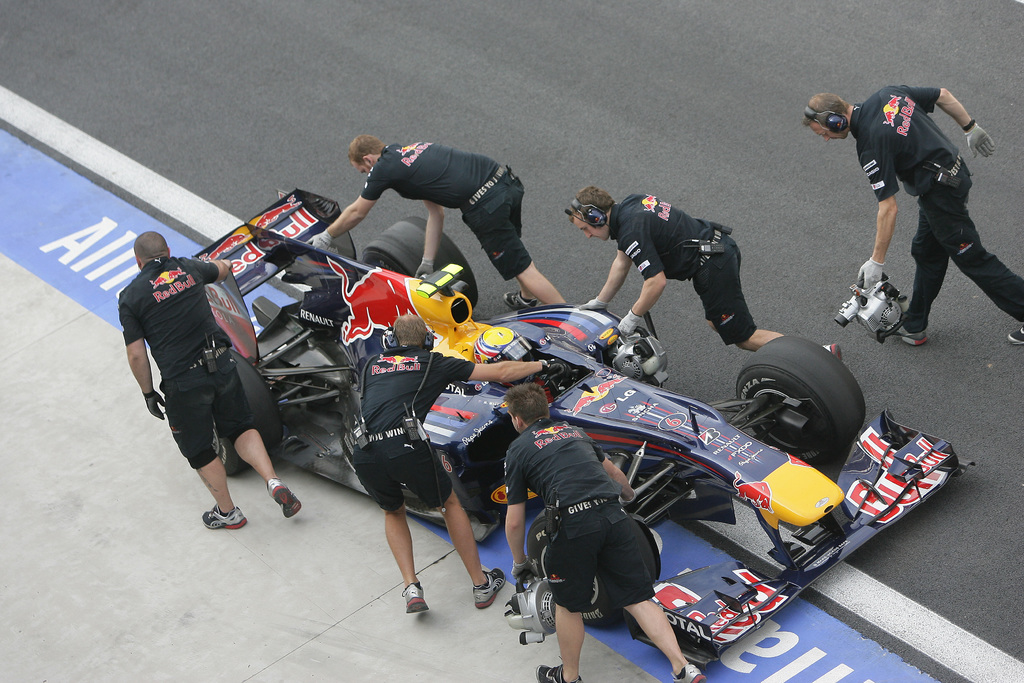Person: (351, 310, 573, 614), (804, 82, 1024, 357), (509, 382, 704, 683), (117, 229, 303, 530), (576, 181, 839, 350), (304, 135, 564, 303)
